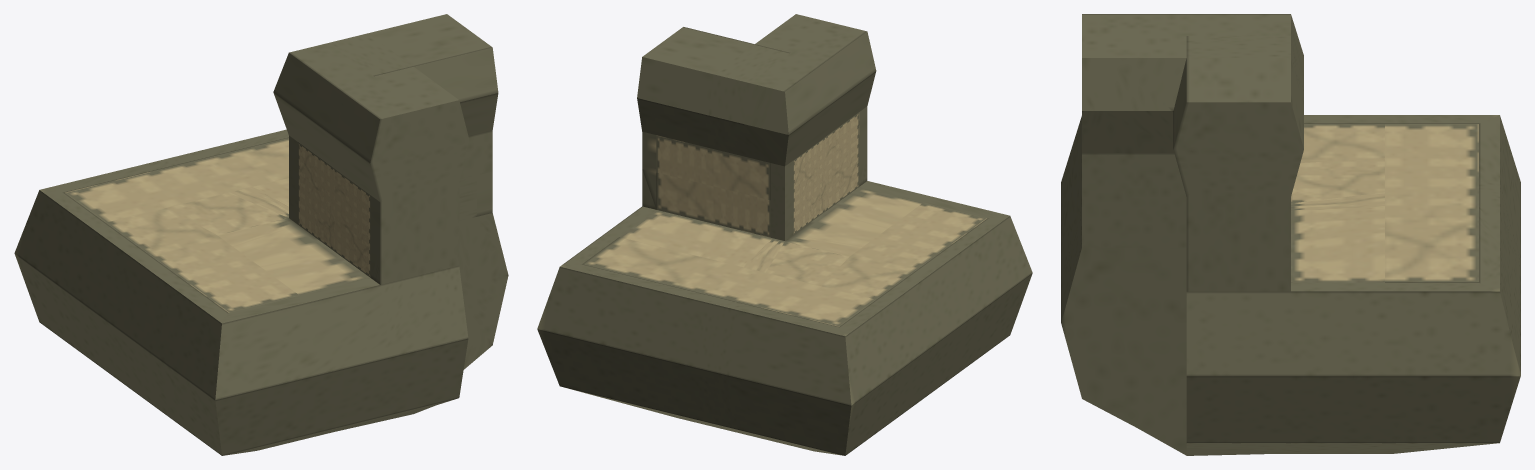
File: Platform_14.fbx
3 renders of one model, left to right at view 1: azimuth 30°, elevation 25°; view 2: azimuth 150°, elevation 25°; view 3: azimuth 270°, elevation 25°, orthographic. The views are drawn at different scales.
Visible parts, largest first — view 1: Platform_14; view 2: Platform_14; view 3: Platform_14.
Boxes of the visible parts, <box> form: Platform_14: <box>14,14,508,455</box>; Platform_14: <box>537,14,1032,455</box>; Platform_14: <box>1061,14,1520,455</box>.
Size of the model in its own units: 220 by 210 by 220.
